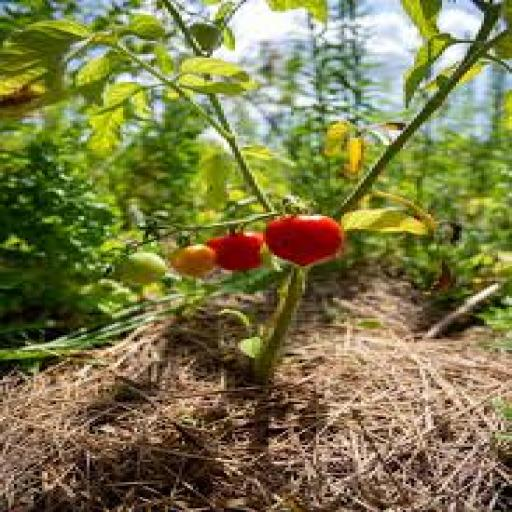tomato: (266, 215, 344, 266), (208, 233, 262, 269), (118, 252, 167, 284), (171, 244, 215, 277), (191, 23, 221, 52)
